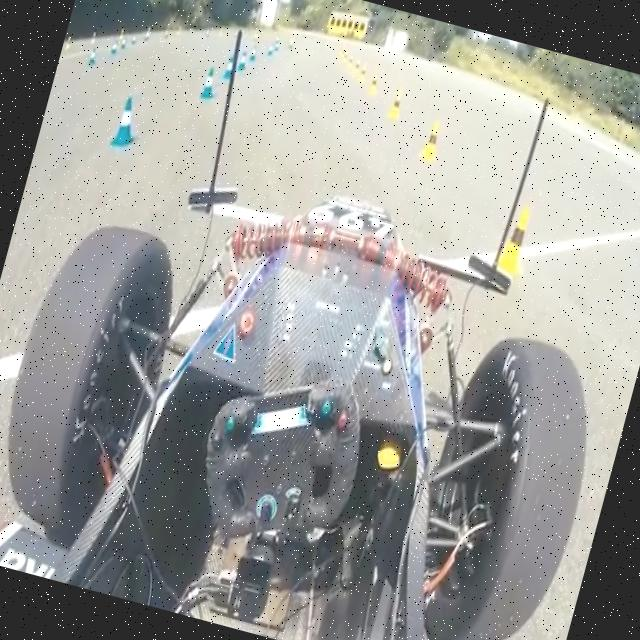blue_cone: (106, 90, 146, 152), (197, 60, 221, 101), (221, 52, 238, 82), (235, 48, 250, 72), (86, 46, 99, 68)
yellow_cone: (497, 198, 538, 277), (418, 120, 446, 164), (384, 87, 406, 124)
